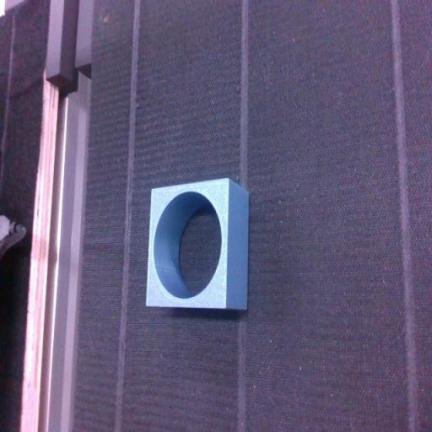hole: (146, 179, 248, 309)
